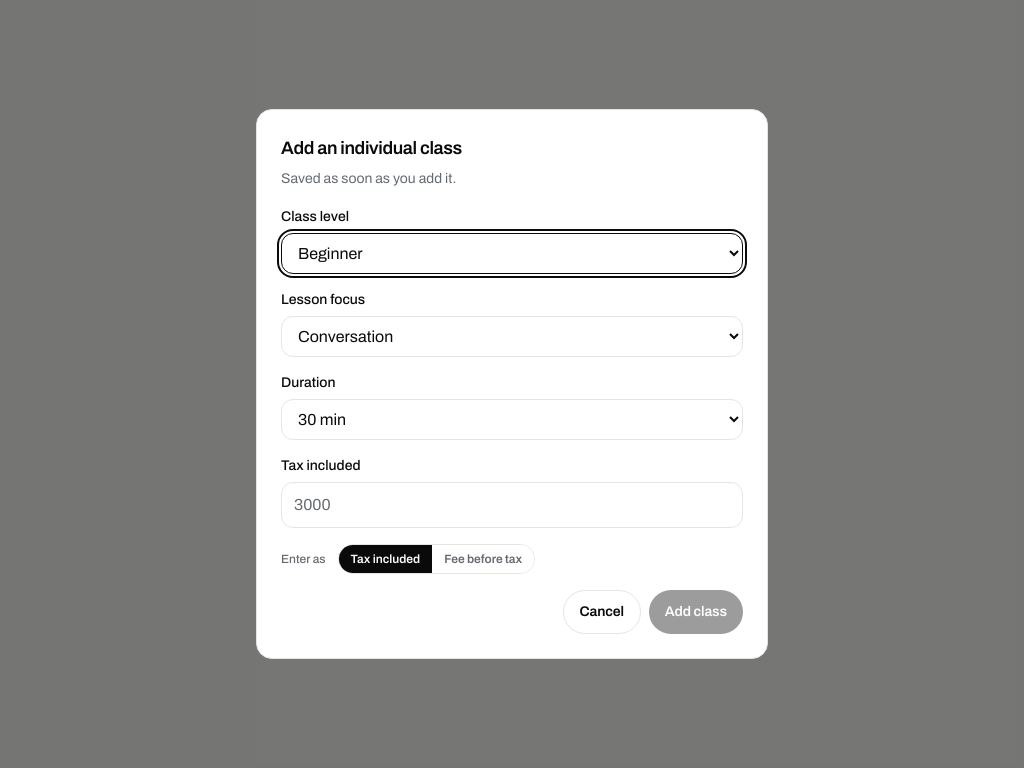
Test case: TeacherLessonAddModal › keeps the typed figure when the entry mode changes
Type "4000" into the field labelled "Tax included" at point(512, 505), box x1=281 y1=482 x2=743 y2=528
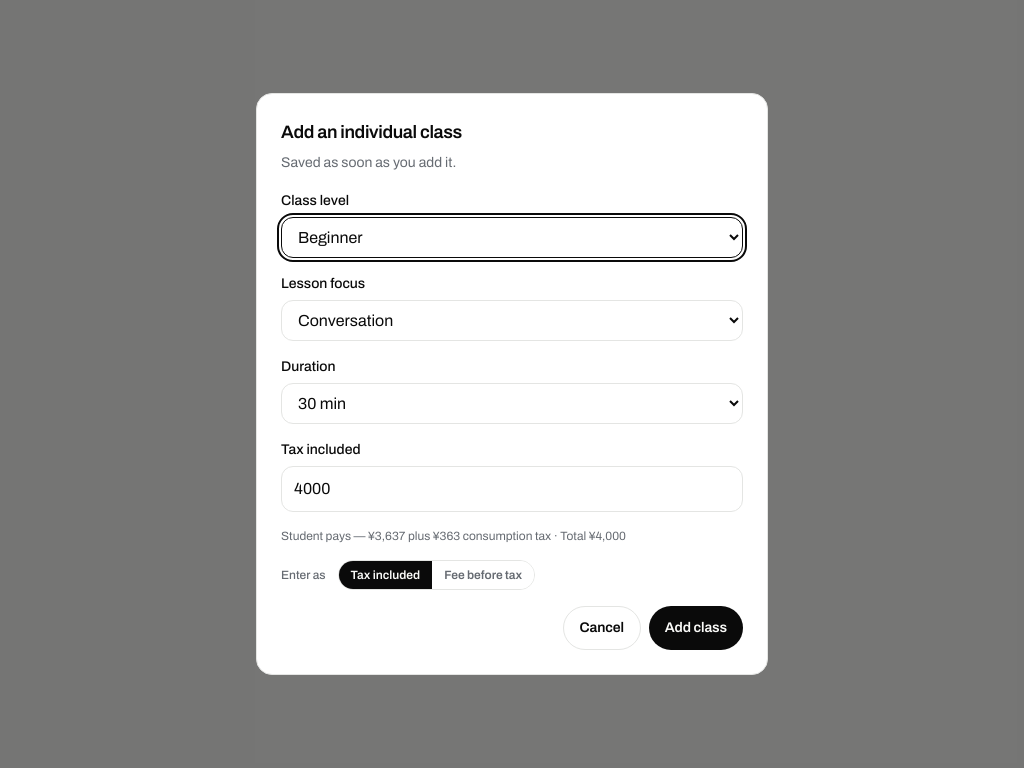
Click the radio button labelled "Fee before tax" at point(483, 575), box x1=432 y1=561 x2=534 y2=589
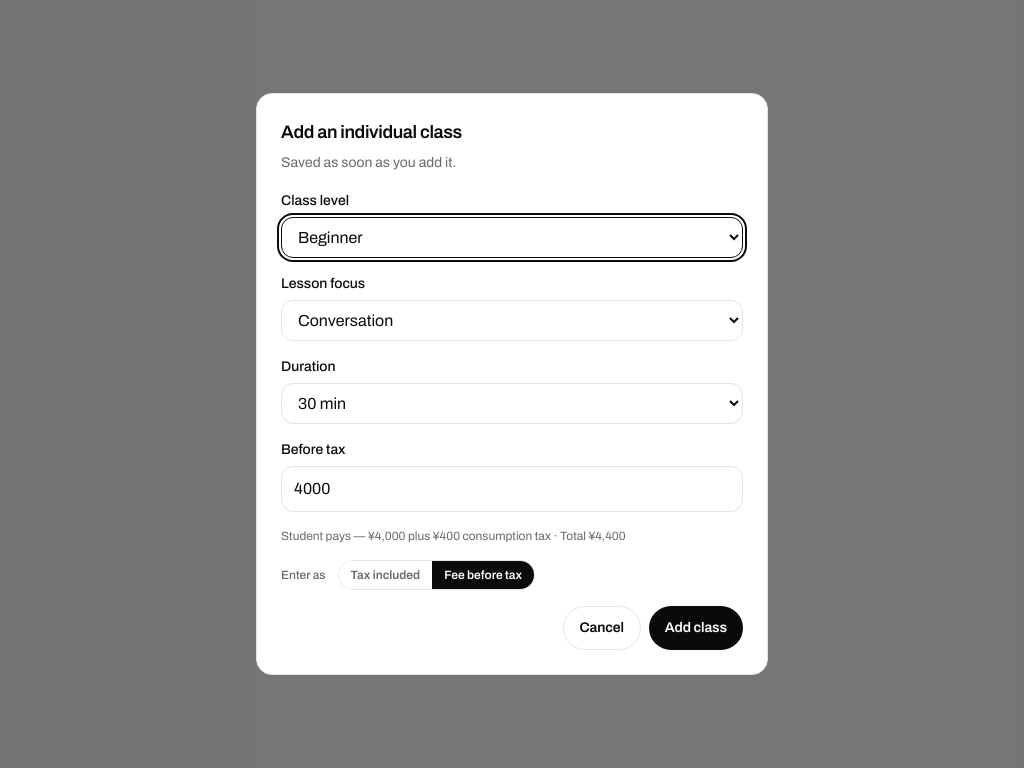
Check: the text "Total ¥4,400" is shown, box x1=281 y1=529 x2=626 y2=543
